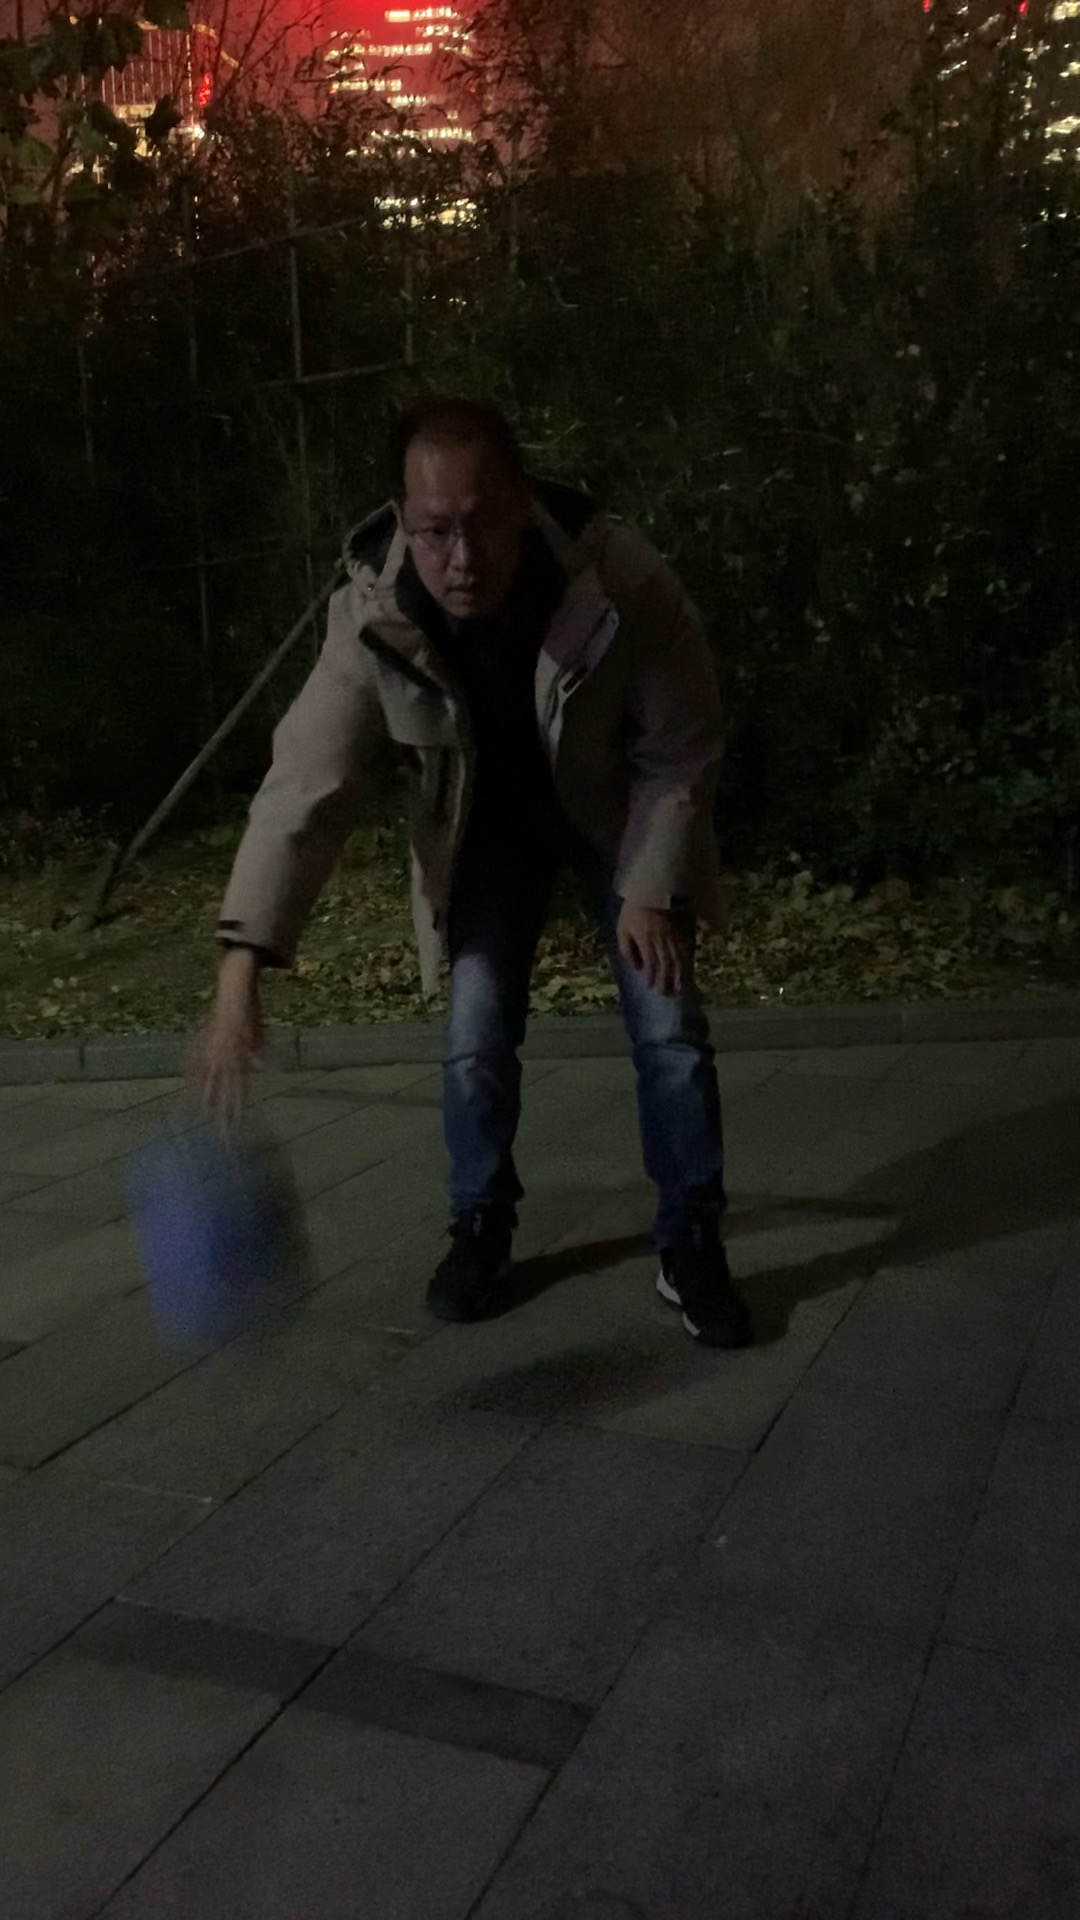ball: (140, 1145, 322, 1313)
